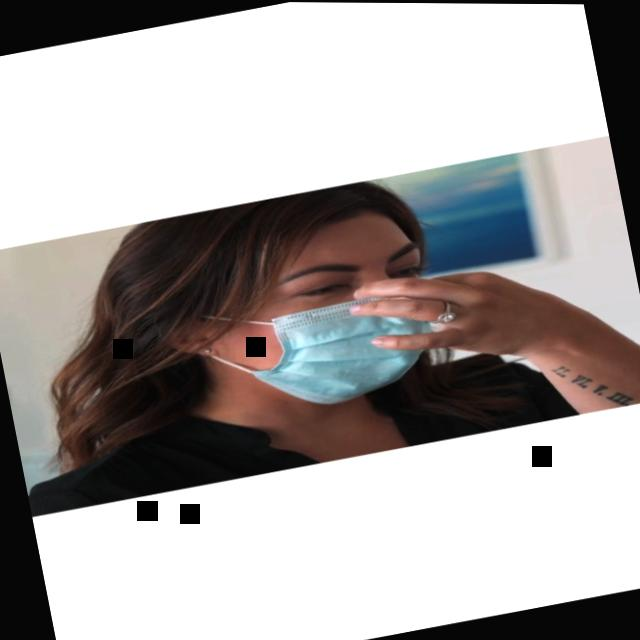Mask: (190, 201, 460, 424)
